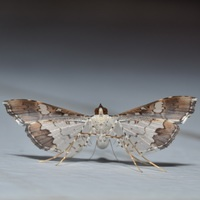insect: (3, 96, 196, 171)
